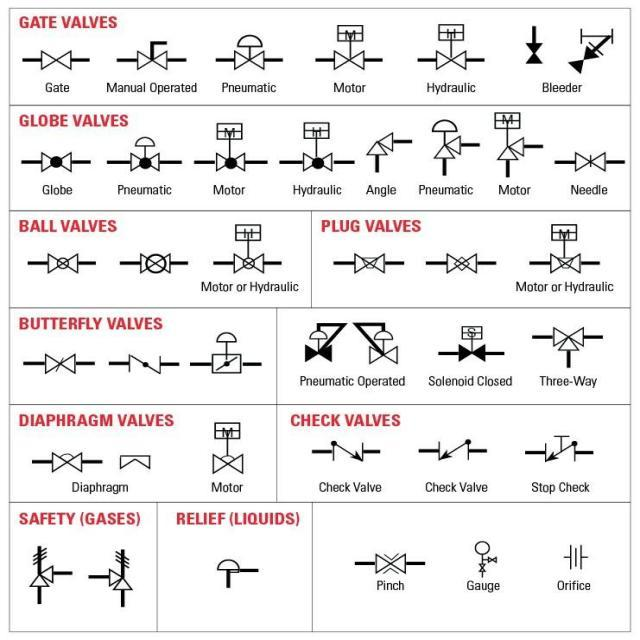3 Way Gate Valve: (547, 324, 592, 357)
Angle Valve: (353, 126, 403, 165)
BackPressure Regulator: (347, 315, 402, 367)
Ball Valve: (132, 248, 176, 280), (42, 248, 85, 280)
Bleeder Valve: (556, 19, 618, 77), (512, 21, 548, 71)
Butterfly Valve: (116, 346, 171, 379), (36, 348, 84, 377)
Check Valve: (430, 433, 478, 465), (323, 440, 370, 464)
Cock Valve: (121, 36, 177, 76)
Diaphragm Valve: (43, 446, 87, 476), (113, 451, 154, 473)
Gate Valve: (35, 45, 82, 75)
Gauge: (462, 535, 500, 578)
Globe Valve: (35, 150, 81, 178)
Hydraulic Operated Ball Valve: (220, 218, 270, 278)
Hydraulic Operated Gate Valve: (422, 22, 472, 71)
Hydraulic Operated Globe Valve: (294, 118, 340, 178)
Motor Operated Angle Valve: (484, 108, 534, 170)
Motor Operated Diaphragm Valve: (202, 417, 252, 478)
Motor Operated Gate Valve: (318, 19, 372, 73)
Motor Operated Globe Valve: (207, 121, 252, 174)
Motor Operated Plug Valve: (538, 219, 586, 275)
Needle Valve: (562, 147, 616, 180)
Orifice: (564, 540, 594, 574)
PRV: (206, 557, 272, 592)
PSV: (90, 540, 140, 606), (18, 542, 64, 602)
Pinch Valve: (350, 542, 427, 580)
Plug Valve: (441, 246, 484, 278), (348, 248, 392, 278)
Pneumatic-Diaphragm Angle Valve: (423, 114, 468, 168)
Pneumatic-Diaphragm Butterfly Valve: (190, 323, 252, 380)
Pneumatic-Diaphragm Gate Valve: (222, 30, 274, 72)
Pneumatic-Diaphragm Globe Valve: (125, 134, 166, 176)
Pressure Regulator: (293, 317, 352, 369)
Solenoid Operated Gate Valve: (440, 316, 492, 365)
Stop Valve: (525, 432, 581, 464)
